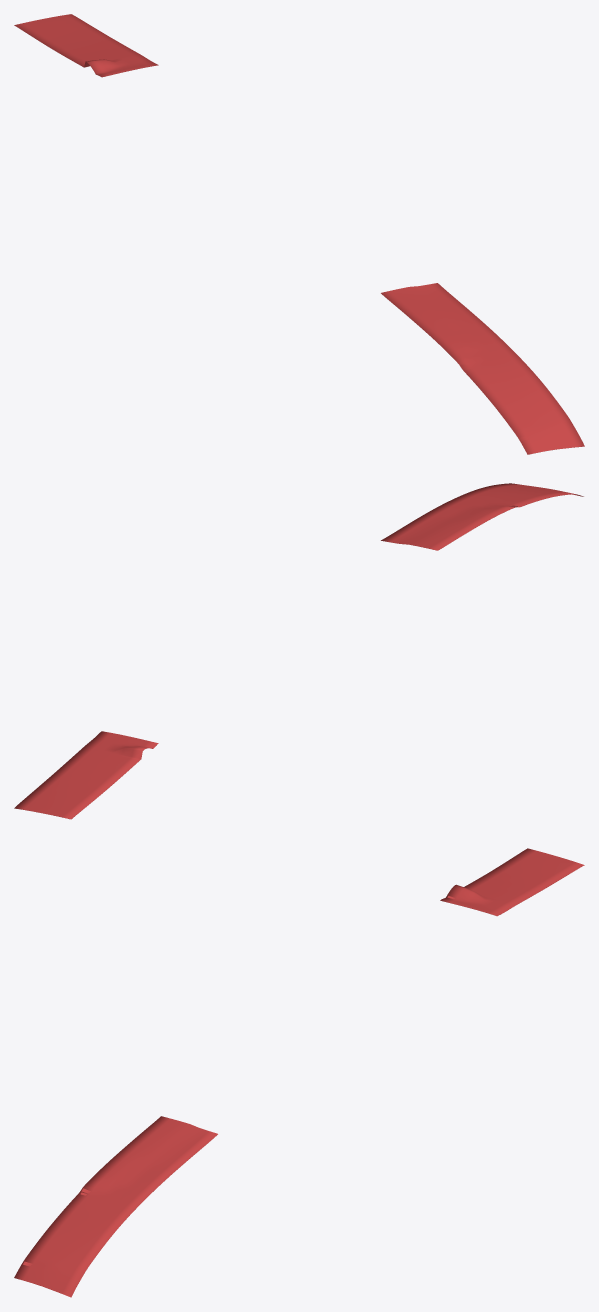
The model's file is DT69_offset_stripe_red.glb.
3 views of the same model, one above another, from view 1: azimuth 30°, elevation 25°; view 2: azimuth 150°, elevation 25°; view 3: azimuth 330°, elevation 25° (orthographic).
Visible parts, largest first — view 1: MOD_NC_DT69_bonnet, MOD_NC_DT69_boot; view 2: MOD_NC_DT69_boot, MOD_NC_DT69_bonnet; view 3: MOD_NC_DT69_bonnet, MOD_NC_DT69_boot.
Boxes of the visible parts, x1,y1,x2,y2 form: MOD_NC_DT69_bonnet: (381,283,584,454); MOD_NC_DT69_boot: (14,14,158,77); MOD_NC_DT69_boot: (14,731,158,819); MOD_NC_DT69_bonnet: (381,483,583,550); MOD_NC_DT69_bonnet: (14,1116,217,1297); MOD_NC_DT69_boot: (440,848,584,916).
Bounding box in the file's own units: 0.2401 × 0.3034 × 3.73.
